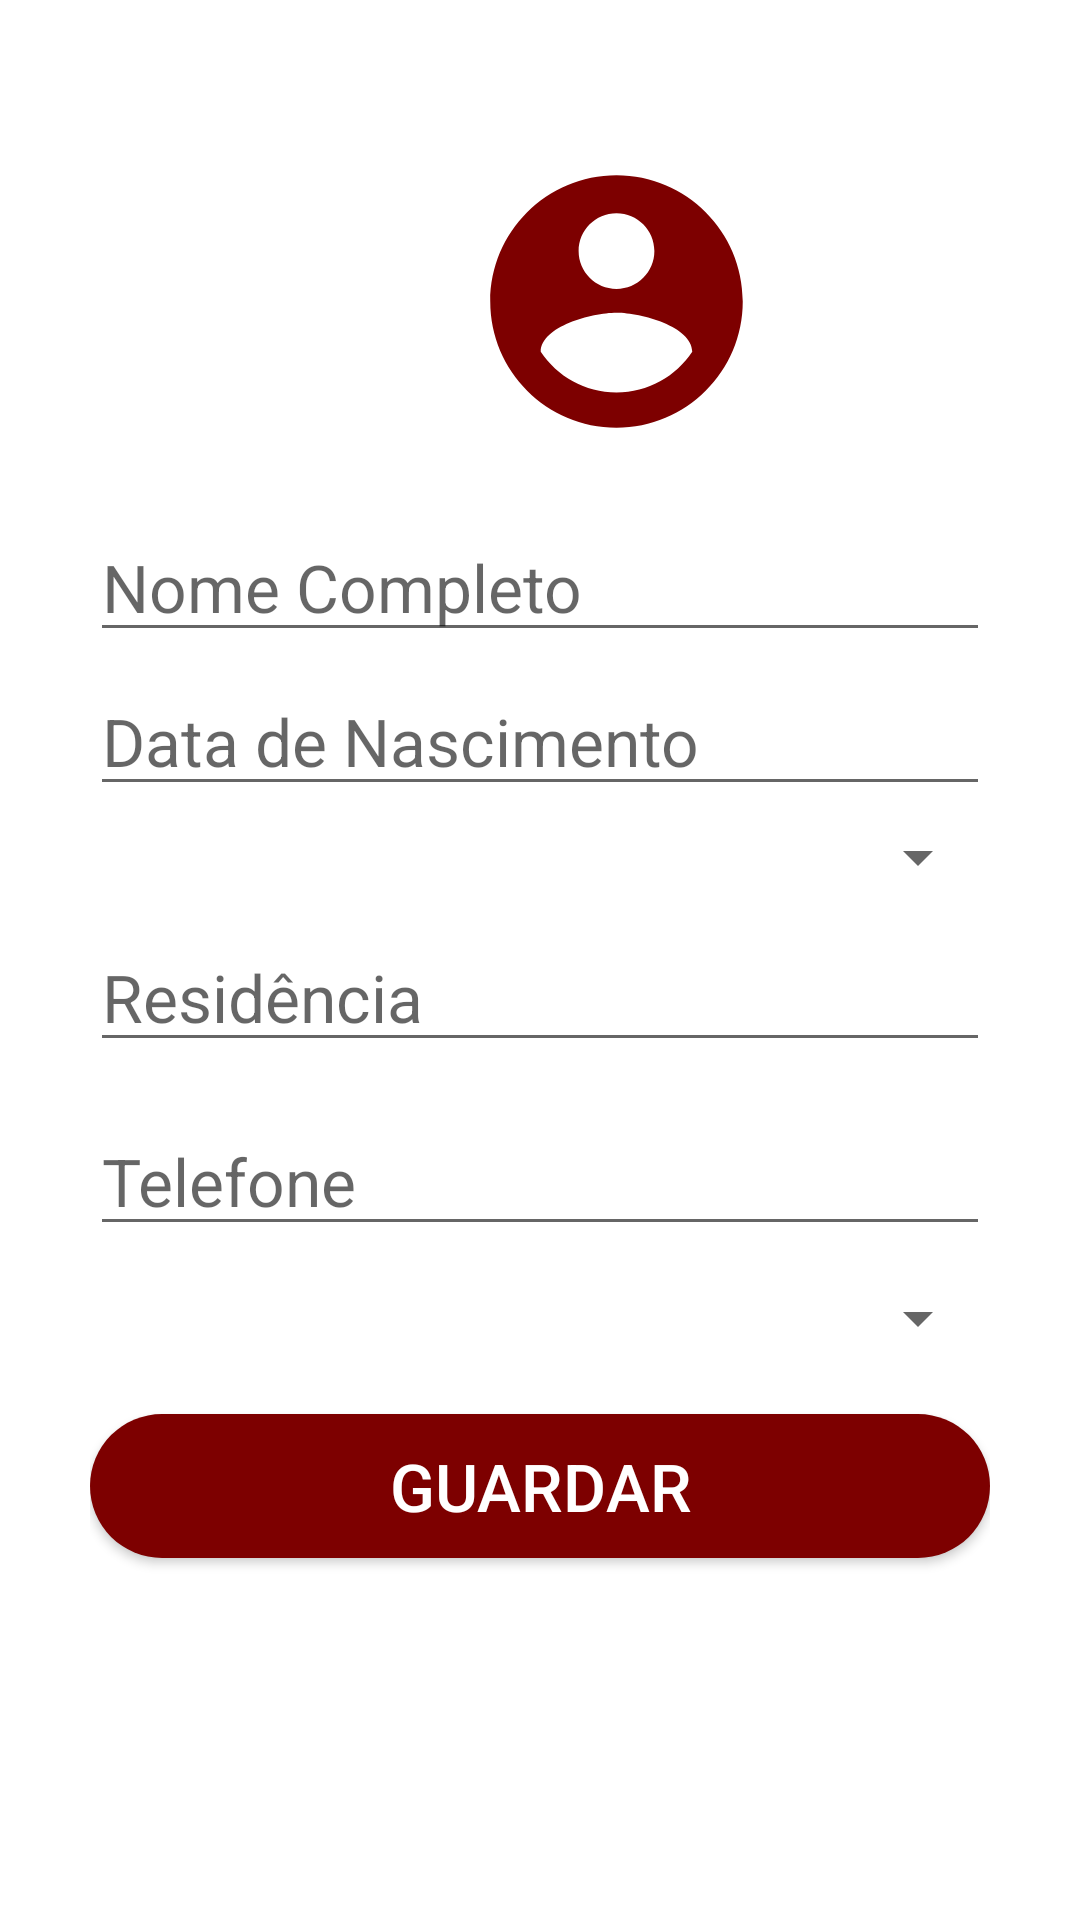

Icons on this 1080×1920 Android screen, each with its box as (x1, y1, x2, y2):
account circle: (490, 175, 743, 428)
